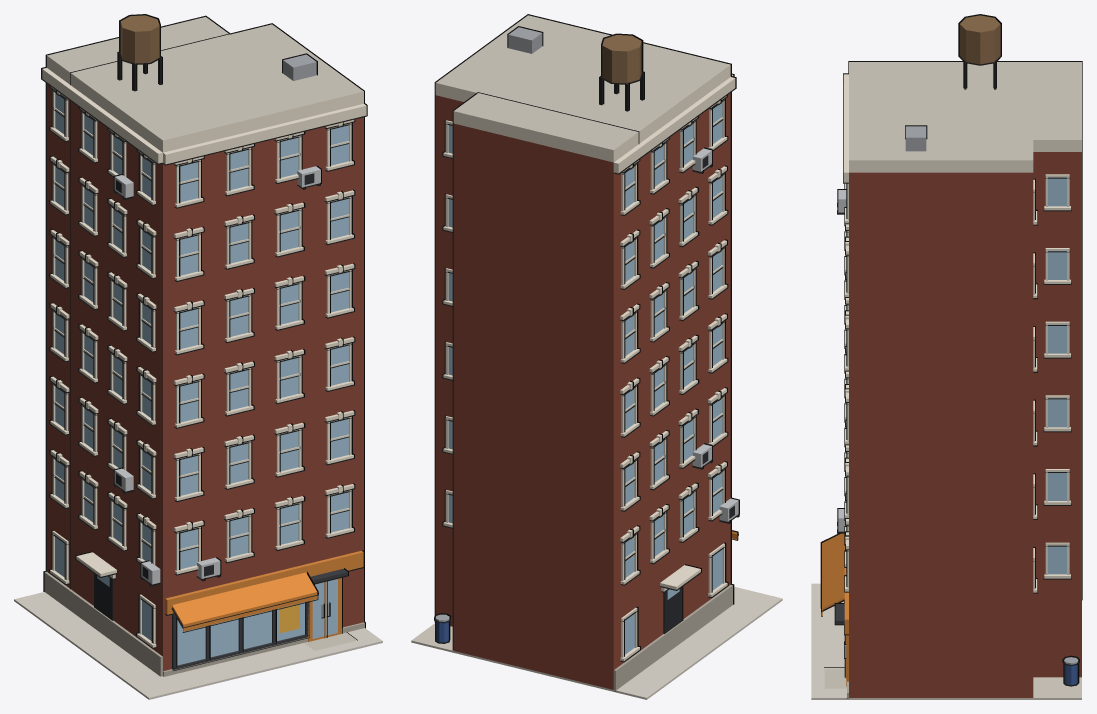
File: Blok_kose_7k_2.fbx
3 renders of one model, left to right at view 1: azimuth 30°, elevation 25°; view 2: azimuth 150°, elevation 25°; view 3: azimuth 270°, elevation 25°, orthographic.
Visible parts, largest first — view 1: Blok_kose_7k_2; view 2: Blok_kose_7k_2; view 3: Blok_kose_7k_2.
Part boxes in pixels (x1,y1,x2,y2): Blok_kose_7k_2: [14, 14, 382, 699]; Blok_kose_7k_2: [411, 14, 782, 699]; Blok_kose_7k_2: [811, 14, 1082, 699].
Size of the model in its own units: 10.03 by 24.48 by 10.03.
